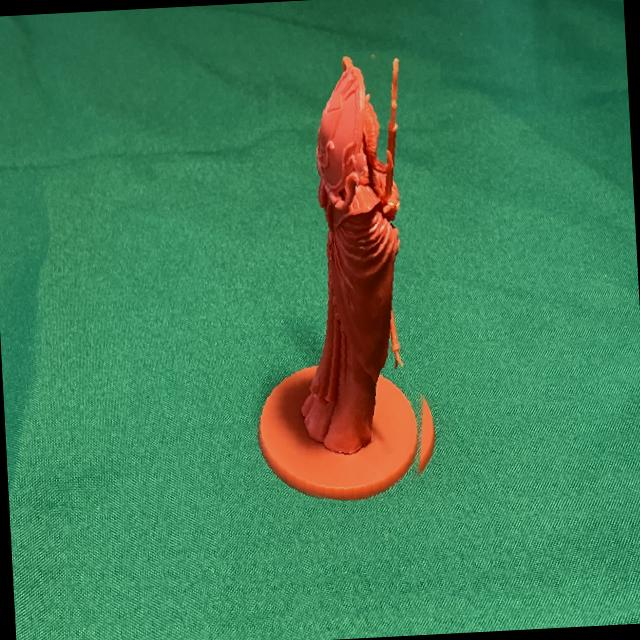amon: (236, 44, 453, 509)
